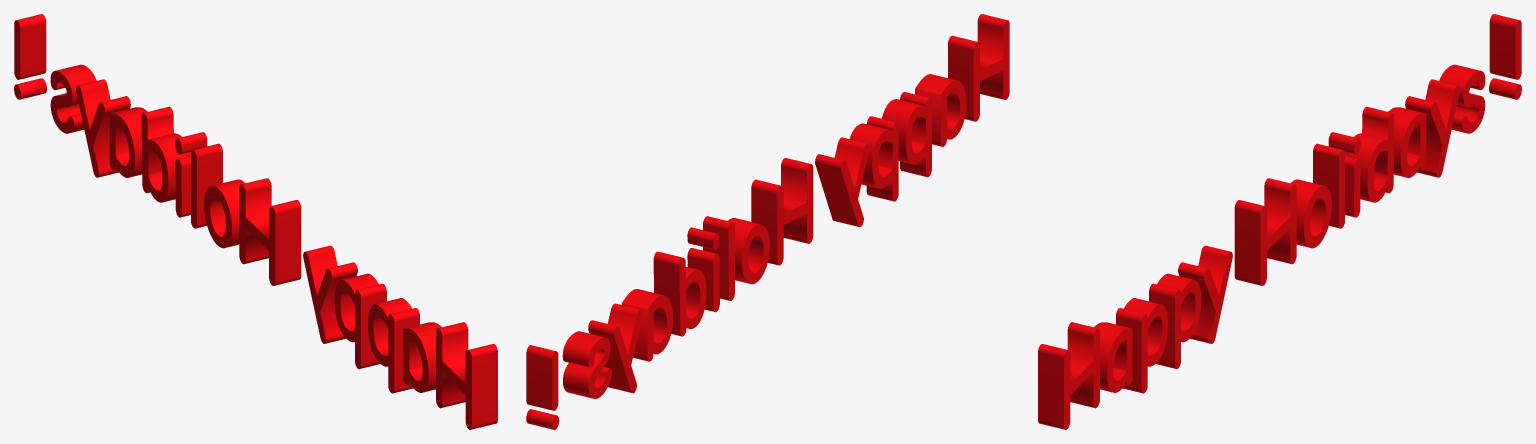
The model's file is happyholidays.glb.
3 views of the same model, side by side, from view 1: azimuth 30°, elevation 25°; view 2: azimuth 150°, elevation 25°; view 3: azimuth 330°, elevation 25° (orthographic).
Parts seen in each view (by area): view 1: 文本; view 2: 文本; view 3: 文本.
Boxes of the visible parts, x1,y1,x2,y2 form: 文本: (14, 14, 497, 429); 文本: (526, 14, 1009, 429); 文本: (1038, 14, 1521, 429).
Size of the model in its own units: 0.2 by 0.7363 by 6.14.
